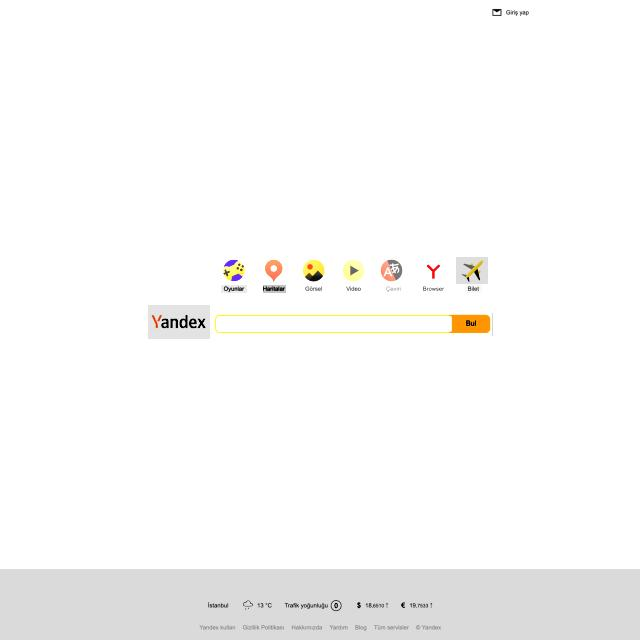CheckBox: (449, 313, 493, 336), (487, 5, 534, 22)
CheckedTextView: (214, 311, 492, 336)
badge: (0, 569, 640, 640)
carousel: (242, 595, 254, 615), (490, 6, 503, 19)
content: (456, 257, 488, 284), (299, 256, 329, 282), (220, 257, 248, 283), (340, 257, 367, 283), (420, 257, 447, 283), (380, 256, 406, 282), (261, 258, 285, 282)
data feed: (221, 285, 247, 293), (421, 284, 446, 292), (263, 285, 286, 293), (382, 285, 404, 293), (305, 284, 323, 293), (344, 284, 362, 293), (465, 284, 482, 293)
date picker: (148, 305, 210, 339)
footer: (219, 318, 271, 329)
